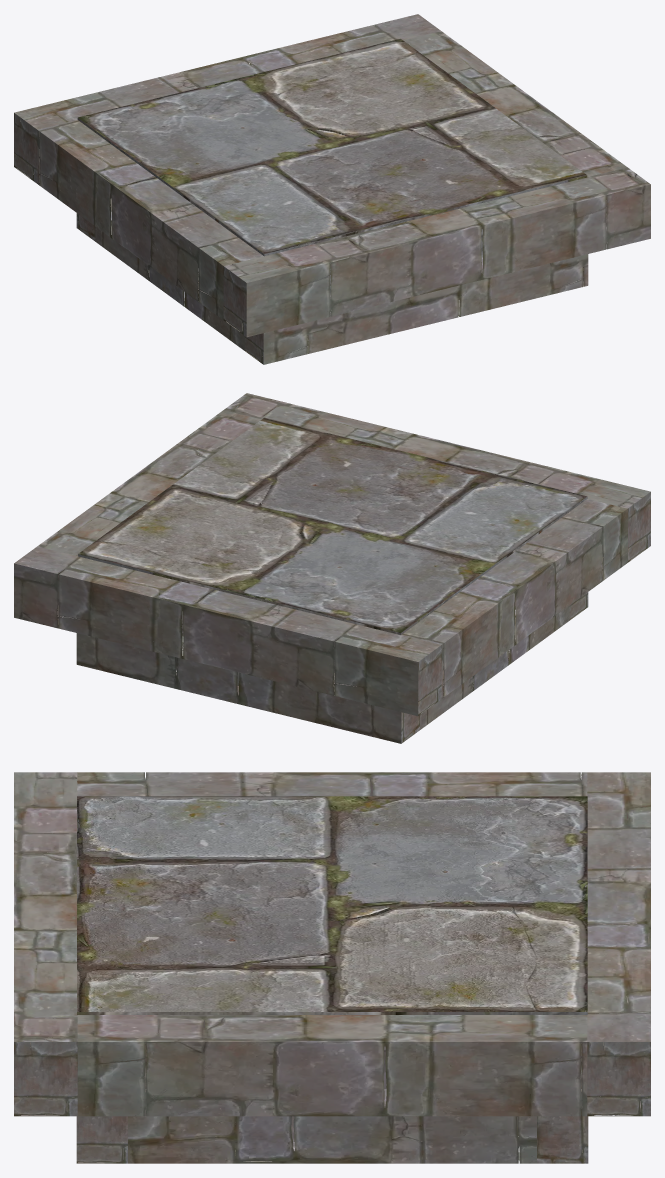
The picture shows the model from 3 angles, top to bottom: view 1: azimuth 30°, elevation 25°; view 2: azimuth 150°, elevation 25°; view 3: azimuth 270°, elevation 25°; orthographic projection. The views are drawn at different scales.
Visible parts, largest first — view 1: SM_BB_T3_Floor_Med_LOD0; view 2: SM_BB_T3_Floor_Med_LOD0; view 3: SM_BB_T3_Floor_Med_LOD0.
Boxes of the visible parts, x1=… form: SM_BB_T3_Floor_Med_LOD0: x1=14, y1=14, x2=650, y2=364; SM_BB_T3_Floor_Med_LOD0: x1=14, y1=393, x2=650, y2=743; SM_BB_T3_Floor_Med_LOD0: x1=14, y1=772, x2=650, y2=1163.
Bounding box in the file's own units: 1.88 × 0.4906 × 1.87.
Materials: 2 (2 with a texture image).
